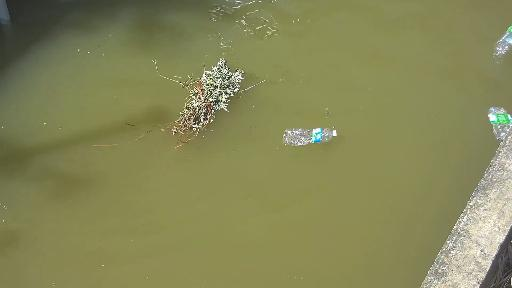plastic: (274, 126, 347, 150), (474, 101, 512, 134), (487, 21, 512, 59)
twig: (113, 37, 278, 165)
